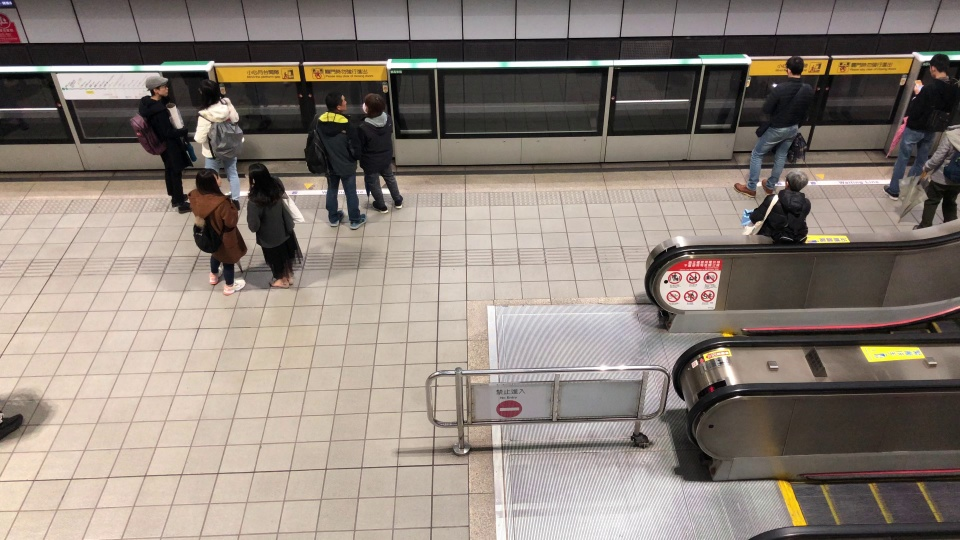person_head: (245, 163, 286, 206), (193, 167, 226, 201), (195, 78, 221, 109), (359, 91, 386, 117), (925, 54, 952, 80), (783, 170, 809, 196), (143, 75, 169, 99), (321, 91, 348, 113), (784, 55, 805, 79), (947, 106, 960, 126)
person_vbox: (733, 55, 818, 199), (879, 53, 960, 200), (124, 75, 197, 218), (301, 91, 368, 231), (241, 161, 309, 292), (893, 106, 960, 233), (184, 168, 249, 297), (190, 77, 245, 211), (352, 91, 407, 215), (739, 169, 812, 248)
